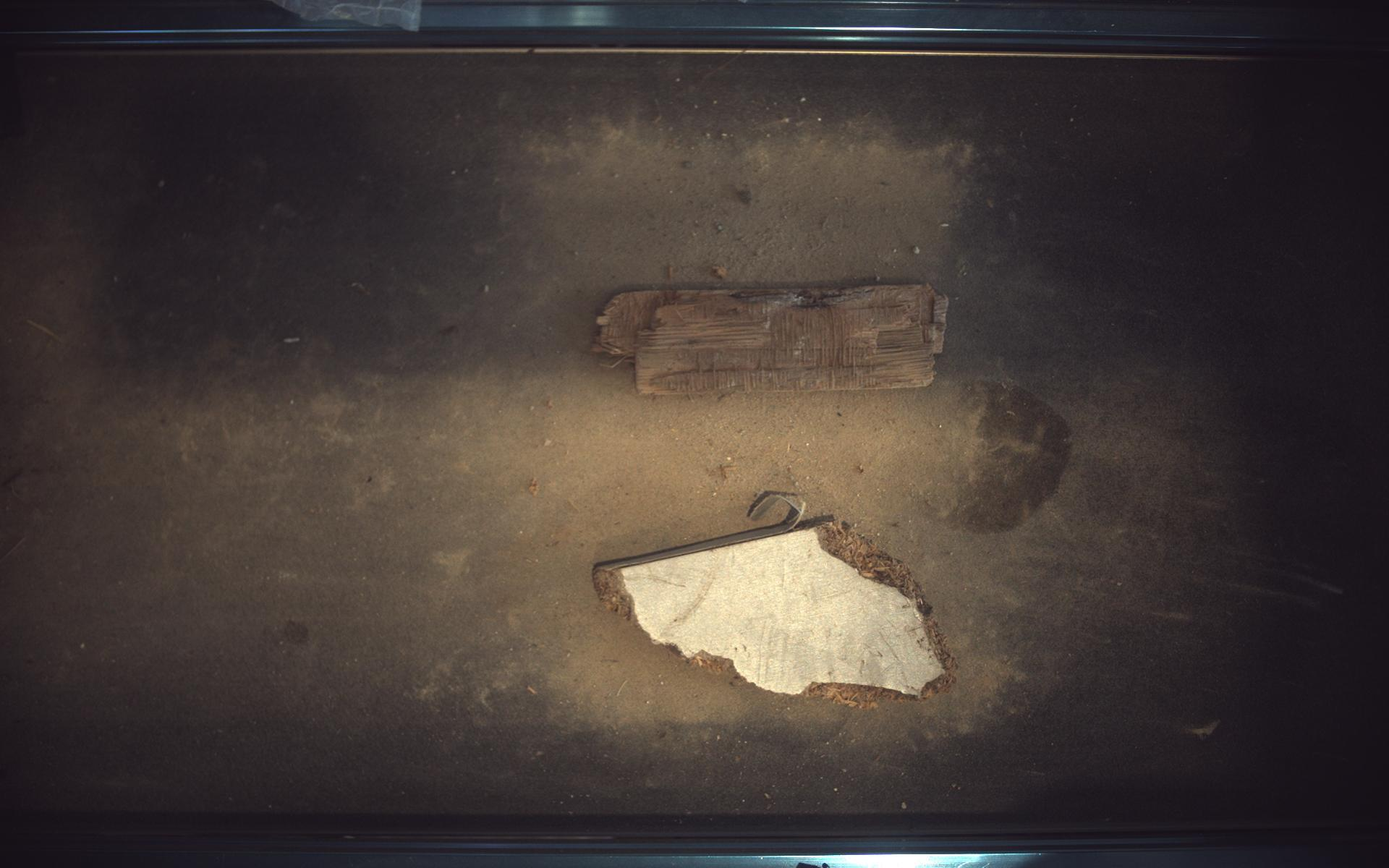wood: (594, 517, 957, 707), (594, 284, 949, 394)
